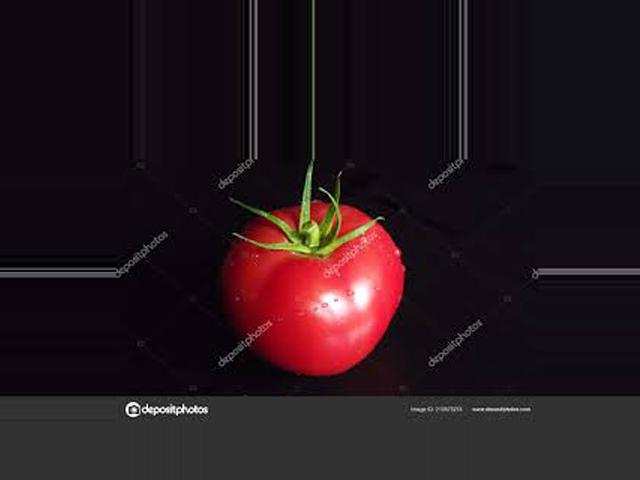tomato: (222, 201, 404, 375)
